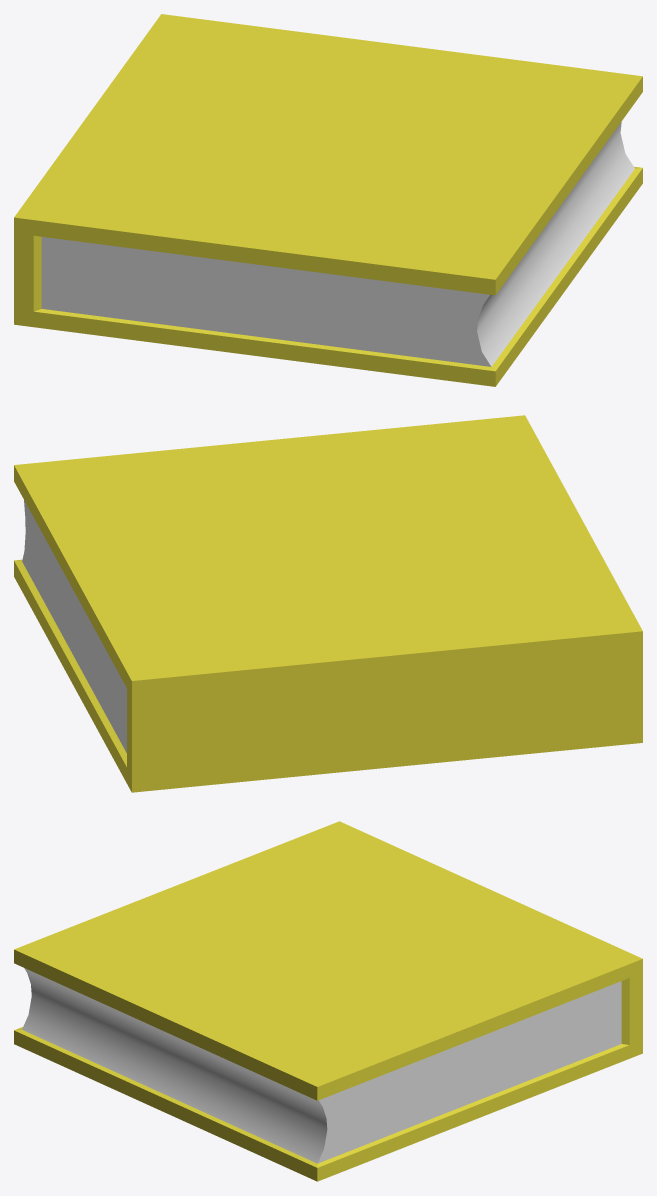
File: livre.fbx
3 views of the same model, one above another, from view 1: azimuth 30°, elevation 25°; view 2: azimuth 150°, elevation 25°; view 3: azimuth 270°, elevation 25° (orthographic). The views are drawn at different scales.
Parts seen in each view (by area): view 1: Rendu_laura:Livre6; view 2: Rendu_laura:Livre6; view 3: Rendu_laura:Livre6.
Boxes of the visible parts, x1,y1,x2,y2 form: Rendu_laura:Livre6: (14,14,642,386); Rendu_laura:Livre6: (14,415,642,792); Rendu_laura:Livre6: (14,821,642,1181).
Bounding box in the file's own units: 6.82 × 1.13 × 6.82.
